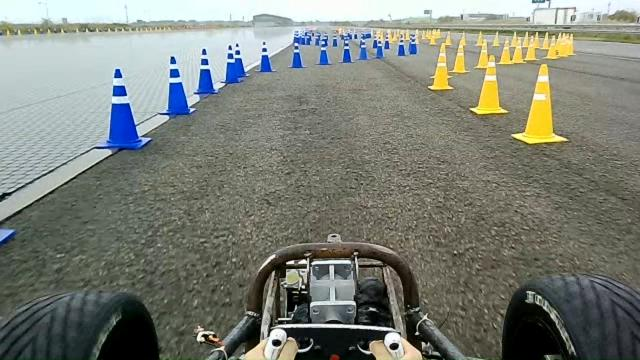blue cone: (94, 68, 152, 150), (158, 56, 196, 115), (193, 48, 218, 94), (218, 42, 240, 86), (254, 41, 277, 72), (232, 40, 248, 80), (287, 38, 305, 70), (315, 38, 333, 65), (338, 40, 354, 63), (357, 35, 369, 60), (375, 35, 385, 58)
yellow cone: (511, 62, 569, 144), (469, 55, 509, 115), (430, 41, 456, 91)
